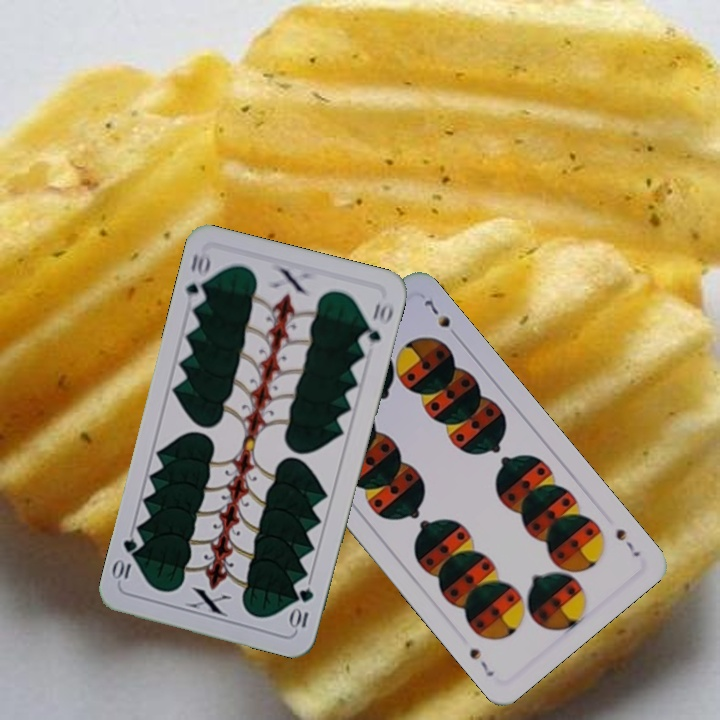G10: (181, 248, 214, 308), (287, 584, 316, 631)
S7: (611, 524, 643, 560)
